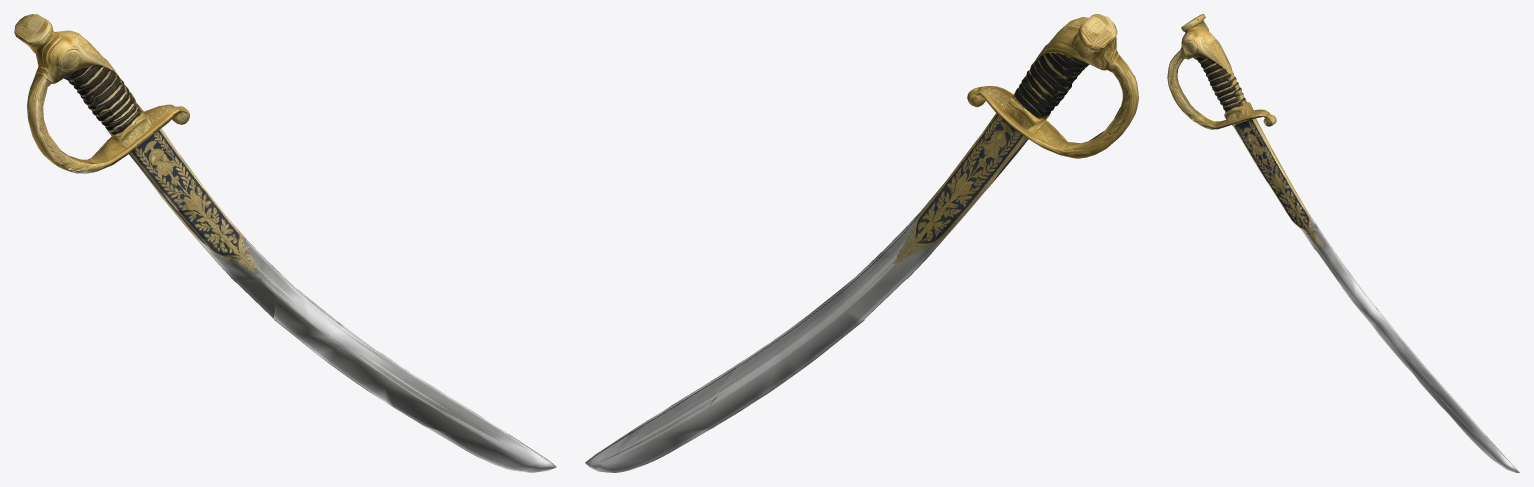
The picture shows the model from 3 angles, left to right: view 1: azimuth 30°, elevation 25°; view 2: azimuth 150°, elevation 25°; view 3: azimuth 330°, elevation 25°; orthographic projection. The views are drawn at different scales.
Parts seen in each view (by area): view 1: Mesh_0.001; view 2: Mesh_0.001; view 3: Mesh_0.001.
Boxes of the visible parts, left/top/right/bottom form: Mesh_0.001: left=14, top=14, right=556, bottom=472; Mesh_0.001: left=585, top=14, right=1138, bottom=472; Mesh_0.001: left=1167, top=14, right=1519, bottom=472.
Size of the model in its own units: 0.8844 by 0.9 by 0.1059.
1 material, 1 textured.
